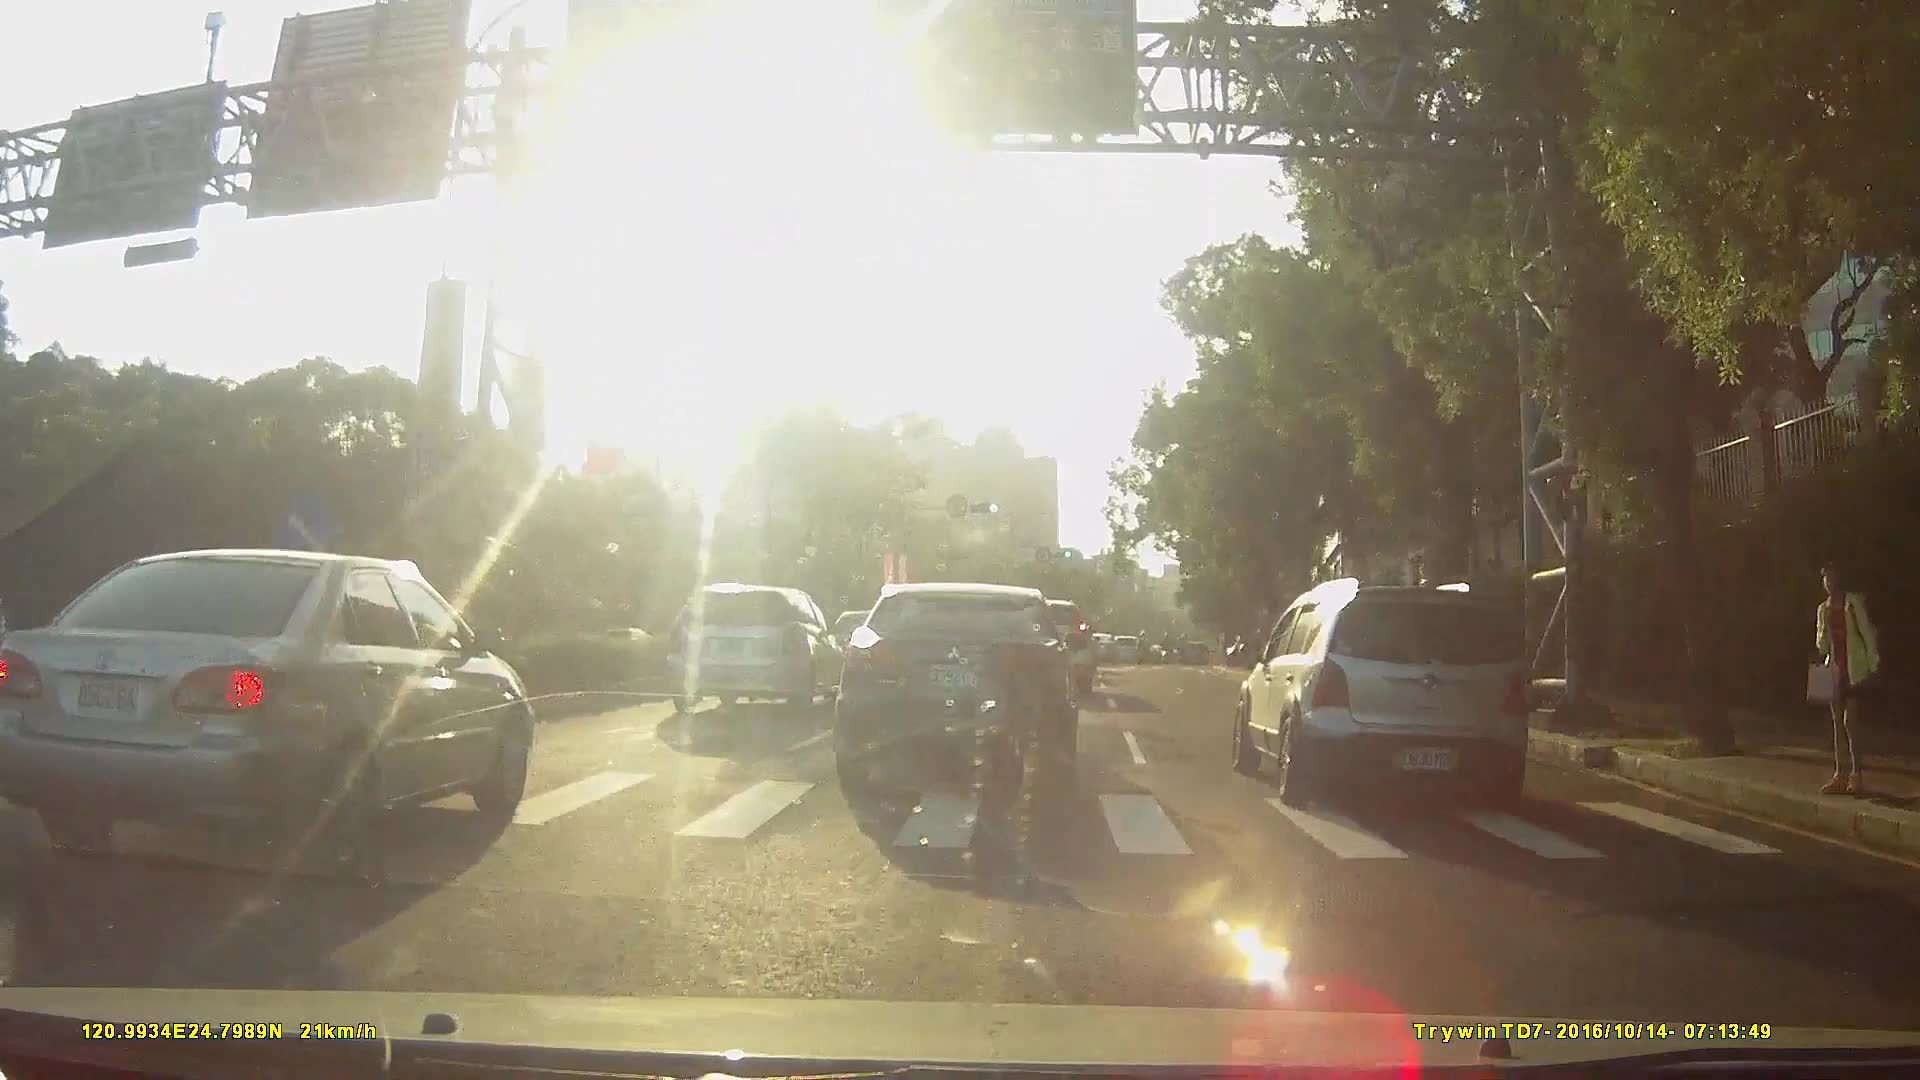pedestrian: (1804, 557, 1886, 798)
vehicle: (1, 546, 554, 891), (1215, 573, 1554, 821), (841, 591, 1095, 801), (655, 586, 842, 719), (1080, 634, 1115, 669), (1104, 637, 1139, 668)
